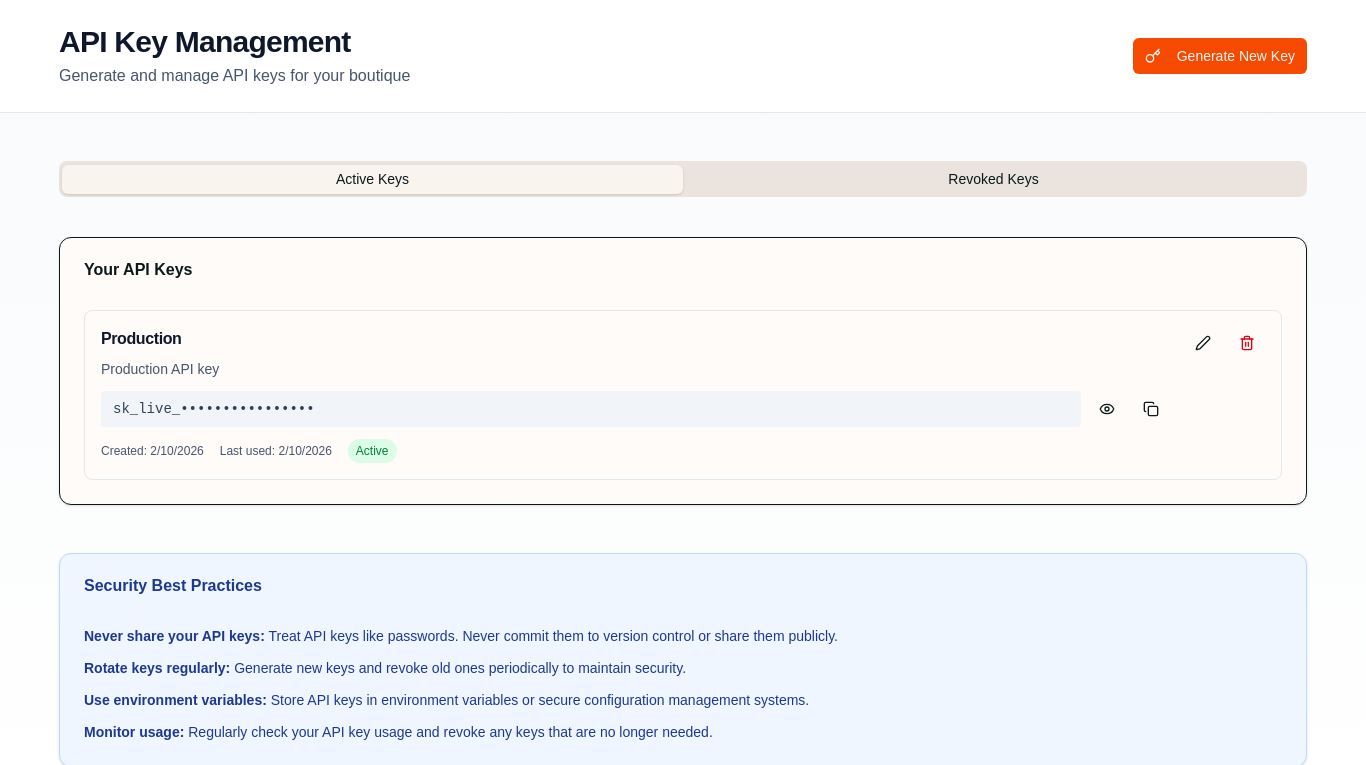
it: ApiKeyManagement › shows the create key dialog when Generate New Key is clicked
This screenshot has width=1366, height=765.
Click the button "Generate New Key": (1220, 56) [1133,38,1307,74]
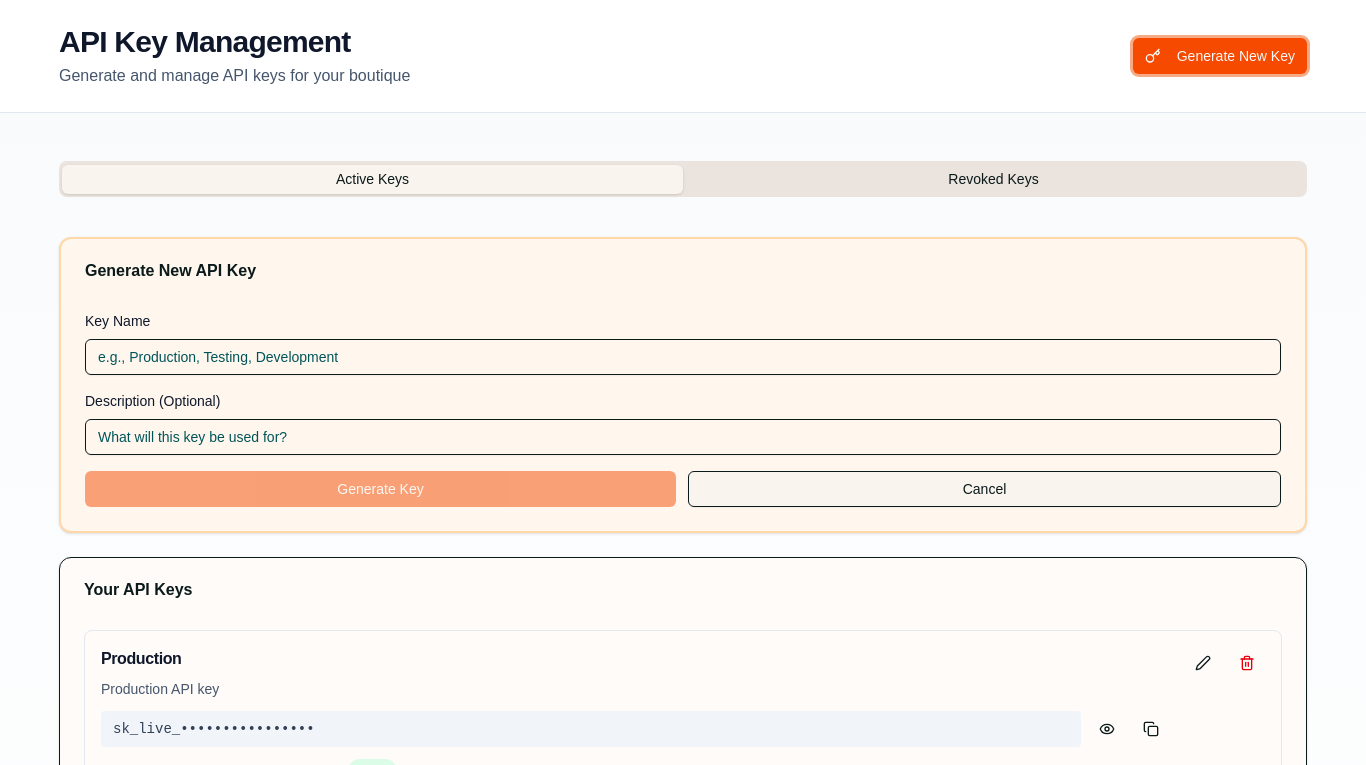
Expected: the text "Generate New API Key" is shown, [85,262,256,279]
Expected: the field with placeholder "e.g., Production, Testing, Development" is shown, [85,339,1281,375]
